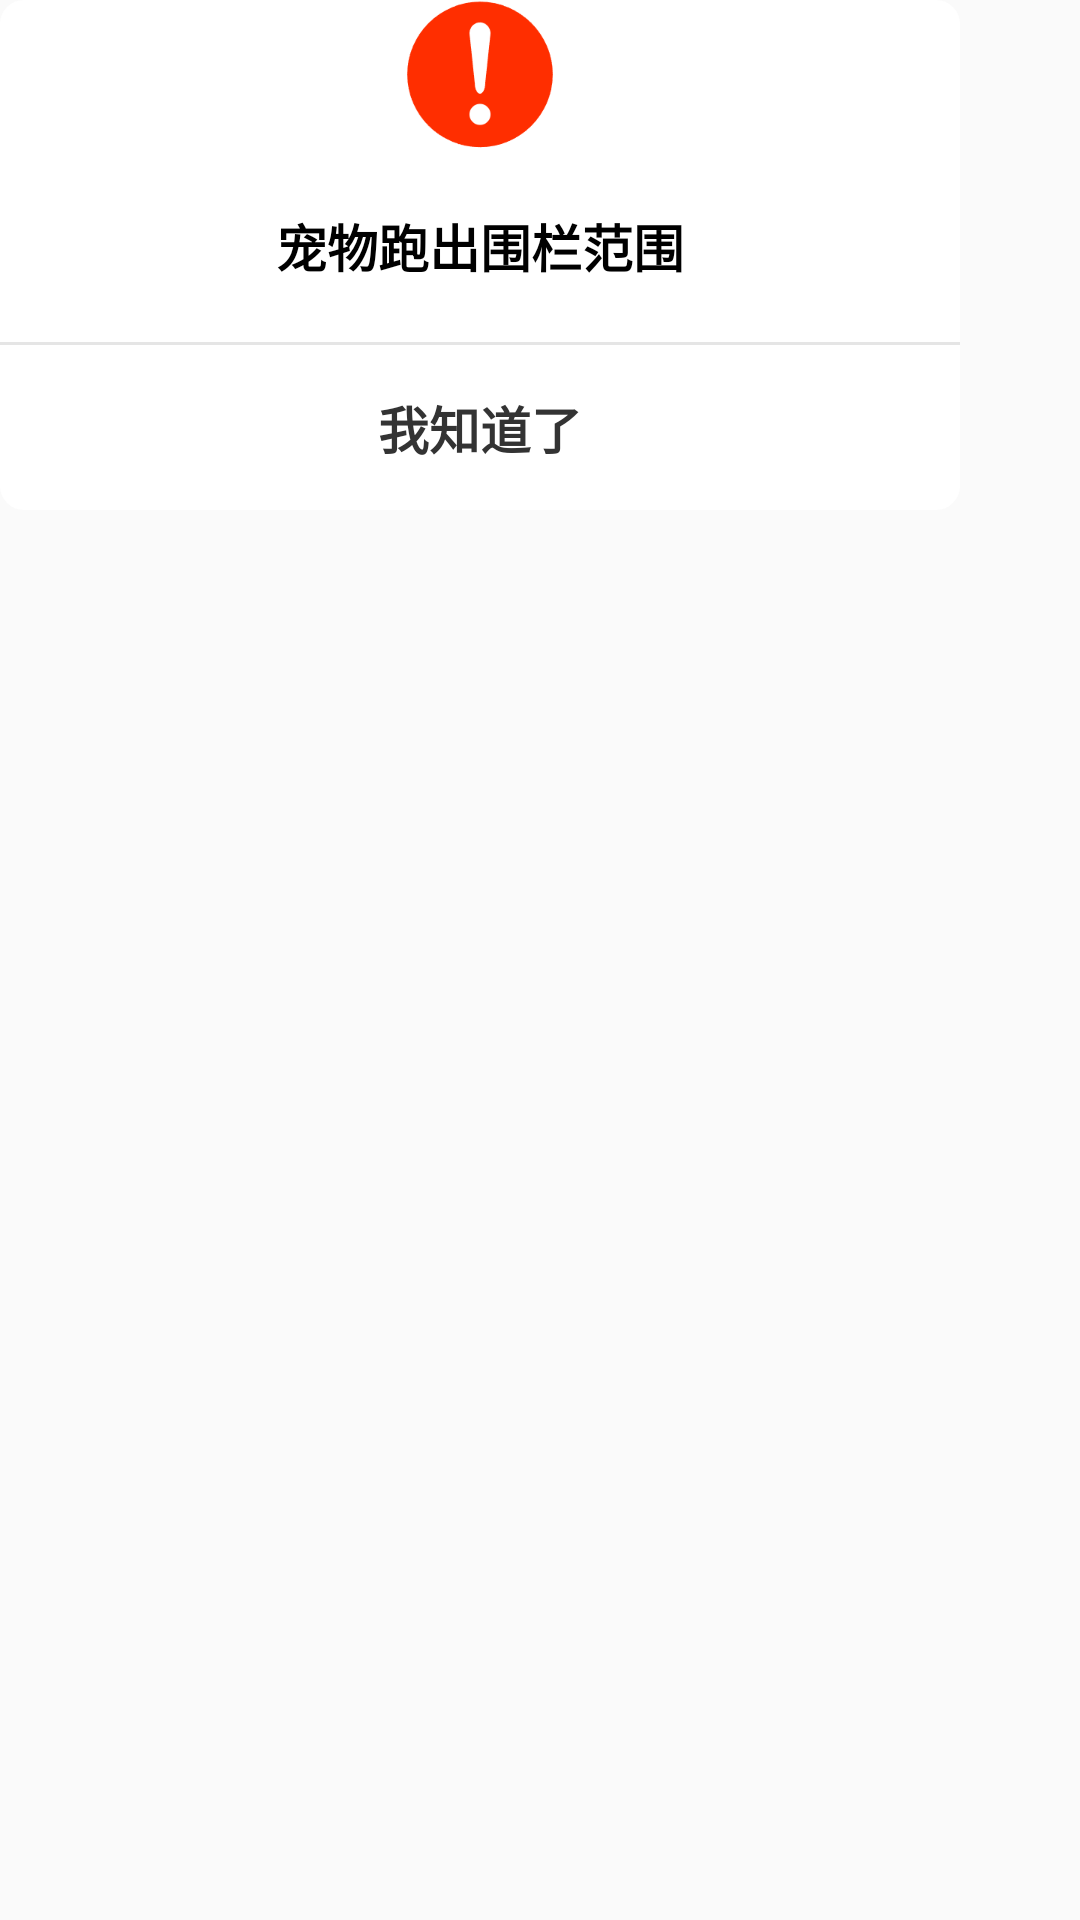

Named icons in this screenshot (1080px x 1920px) and their bounding boxes, (x1, y1, x2, y2):
remind: (407, 1, 553, 148)
